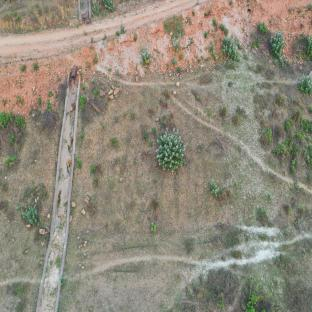slope_drain: (35, 75, 82, 312)
vegetation: (157, 131, 186, 171)
